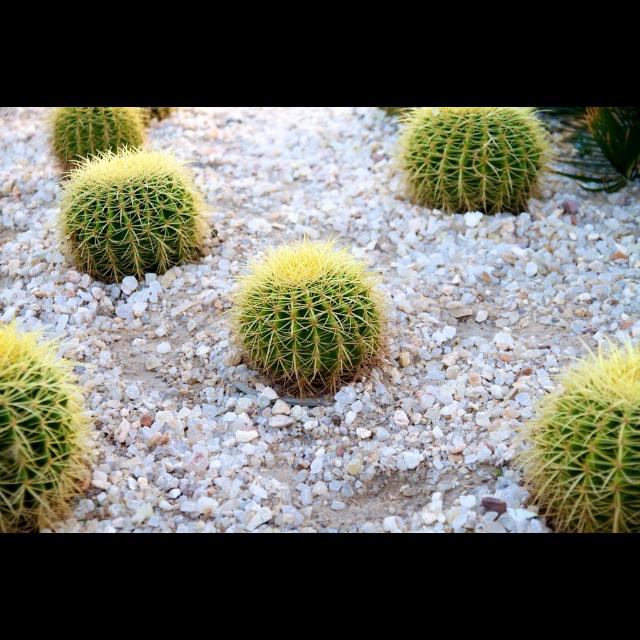Flower: (52, 138, 205, 286)
